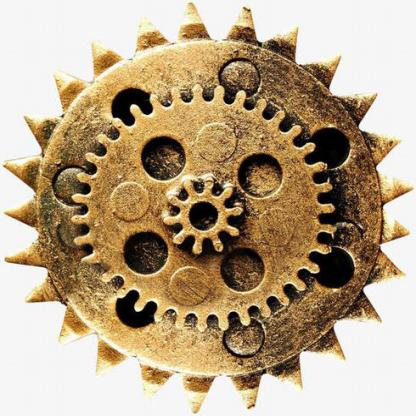FOD: (64, 77, 338, 337), (160, 172, 247, 260)
